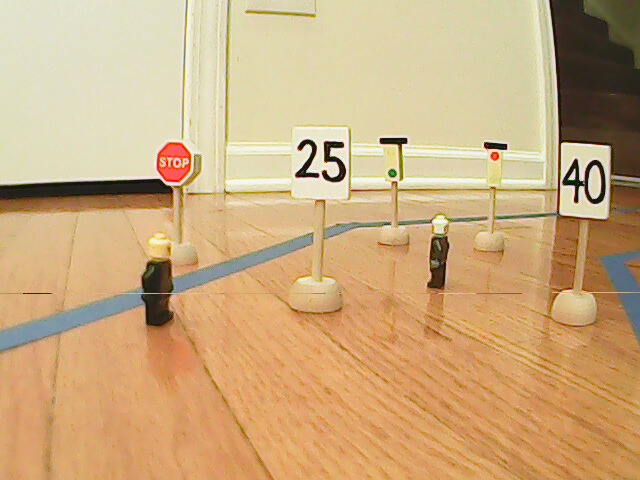Green Traffic Light: (380, 137, 409, 183)
Person: (139, 229, 181, 325), (427, 214, 452, 292)
Red Traffic Light: (482, 142, 508, 189)
Speed Limit 25: (290, 126, 349, 200)
Speed Limit 40: (558, 141, 610, 221)
Stop Sign: (153, 138, 201, 190)
